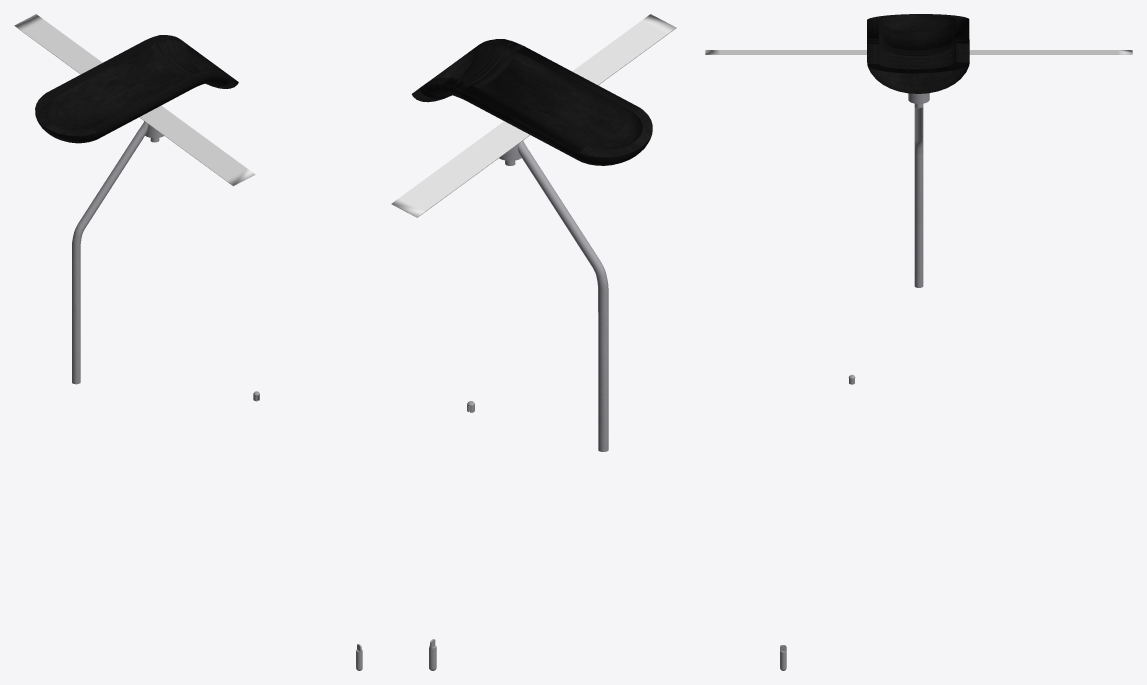
File: heavy_leg_support.fbx
3 renders of one model, left to right at view 1: azimuth 30°, elevation 25°; view 2: azimuth 150°, elevation 25°; view 3: azimuth 270°, elevation 25°, orthographic. The views are drawn at different scales.
Parts seen in each view (by area): view 1: pad, strap, curved_pipe; view 2: pad, strap, curved_pipe; view 3: pad, curved_pipe, strap.
Part boxes in pixels (box(x1,y1,x2,y2)): pad: box(35, 35, 238, 143); strap: box(14, 14, 255, 186); curved_pipe: box(72, 121, 148, 384); pad: box(412, 39, 652, 165); strap: box(391, 14, 676, 217); curved_pipe: box(518, 141, 608, 451); pad: box(867, 14, 969, 93); curved_pipe: box(914, 107, 923, 287); strap: box(705, 50, 1132, 54).
Bounding box in the file's own units: 65.48 × 149 × 100.
3 materials, 2 textured.
